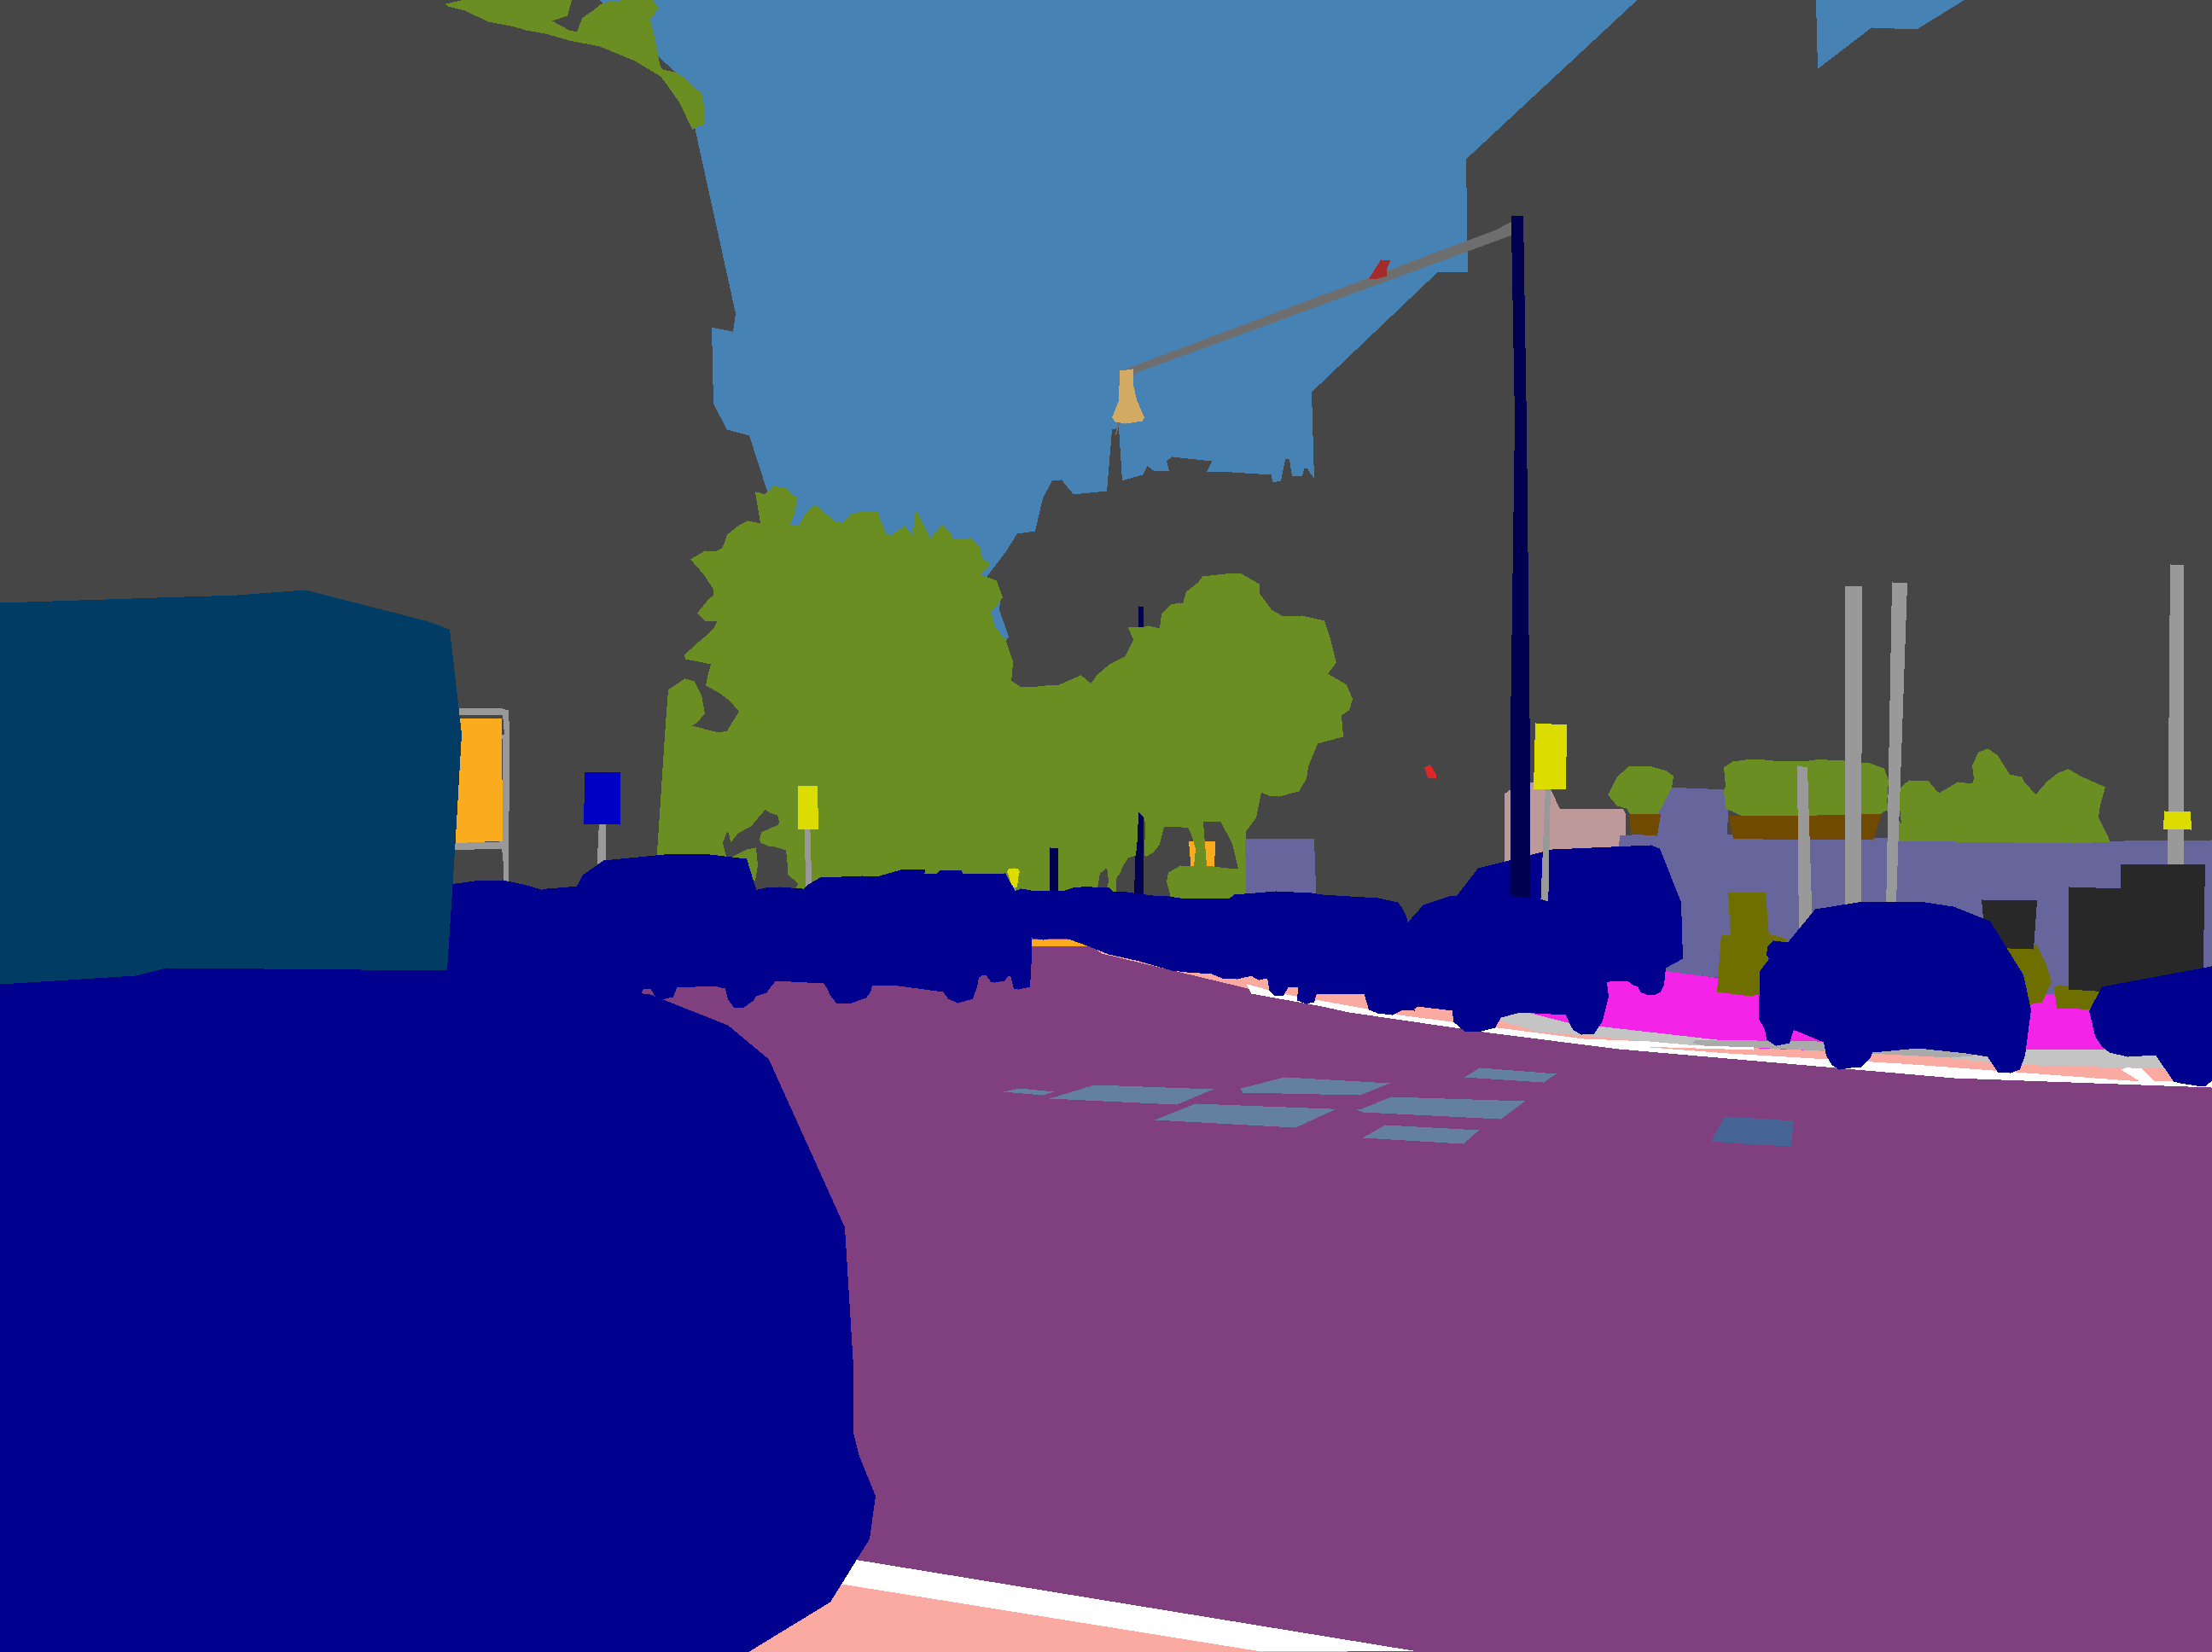animal--bird: (1369, 259, 1390, 278)
marking--discrete--other-marking: (1247, 984, 2212, 1086)
object--cctv-camera: (1424, 765, 1435, 777)
object--junction-box: (2120, 864, 2205, 982), (2068, 887, 2120, 991), (1981, 899, 2037, 949)
object--manhole: (1155, 1104, 1334, 1128), (1357, 1097, 1525, 1119), (1050, 1085, 1213, 1104), (1240, 1078, 1390, 1095), (1364, 1124, 1478, 1144), (1464, 1067, 1556, 1083), (1003, 1088, 1053, 1095)
object--sign--advertisement: (456, 718, 501, 842), (1188, 842, 1214, 866)
object--street-light: (1112, 368, 1143, 423)
object--support--pole: (1797, 581, 1907, 928), (455, 708, 508, 880), (2167, 564, 2183, 864), (1541, 790, 1549, 901), (597, 824, 605, 864), (805, 829, 810, 885), (1013, 887, 1015, 890)
object--support--utility-pole: (1511, 215, 1528, 897), (1135, 606, 1143, 894), (1050, 847, 1057, 890)
object--traffic-sign--front: (798, 786, 817, 828), (2163, 810, 2191, 829), (1006, 868, 1018, 878), (1010, 878, 1017, 887)
object--traffic-sign--information-parking: (583, 772, 619, 824)
object--traffic-sign--temporary-front: (1534, 722, 1567, 788)
object--vehicle--bus: (0, 590, 461, 982)
object--vehicle--car: (0, 968, 874, 1652), (1759, 902, 2030, 1072), (1365, 894, 1608, 1034), (1457, 845, 1683, 994), (552, 854, 765, 1006), (755, 876, 989, 1003), (2089, 967, 2212, 1085), (925, 873, 1031, 989), (448, 880, 559, 982)
